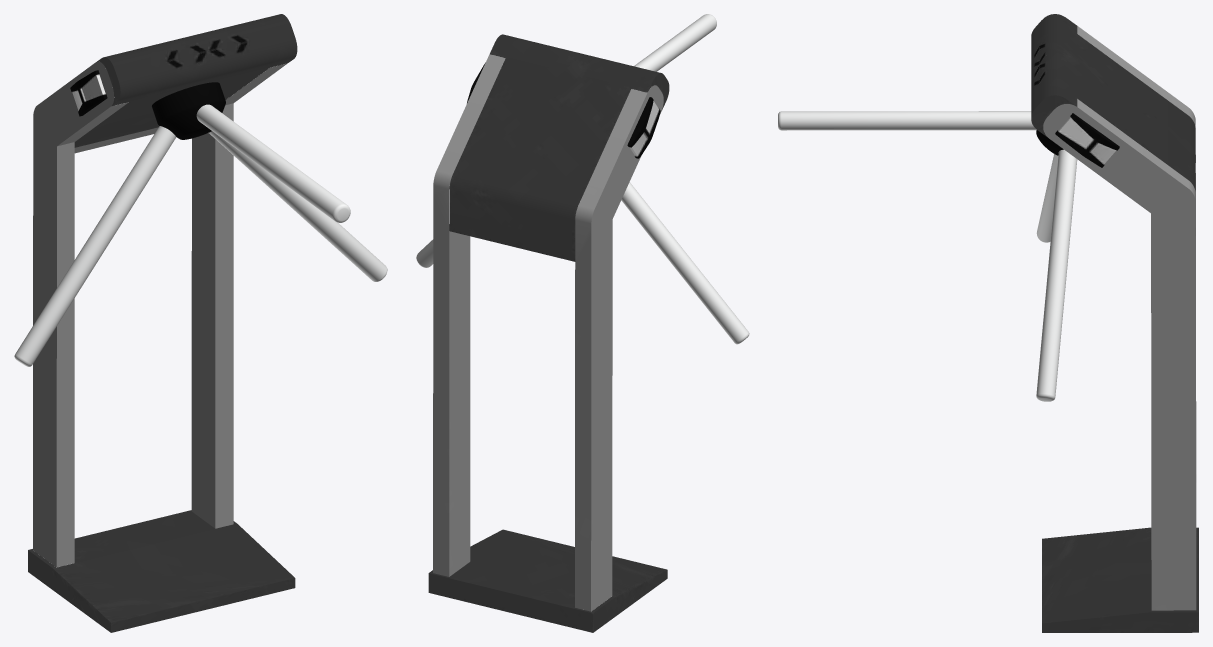
The model's file is simple_turnstile.glb.
3 views of the same model, side by side, from view 1: azimuth 30°, elevation 25°; view 2: azimuth 150°, elevation 25°; view 3: azimuth 270°, elevation 25° (orthographic). The views are drawn at different scales.
Parts seen in each view (by area): view 1: Cube.003_5, Cube.003_6, Cylinder.002_3, Cylinder.002_2; view 2: Cube.003_6, Cube.003_5, Cylinder.002_3; view 3: Cube.003_5, Cube.003_6, Cylinder.002_3.
Boxes of the visible parts, bbox=[...] form: Cube.003_5: bbox=[33, 61, 287, 567]; Cube.003_6: bbox=[28, 14, 297, 632]; Cylinder.002_3: bbox=[14, 104, 387, 366]; Cylinder.002_2: bbox=[152, 82, 225, 139]; Cube.003_6: bbox=[428, 34, 669, 632]; Cube.003_5: bbox=[433, 54, 663, 611]; Cylinder.002_3: bbox=[416, 14, 749, 344]; Cube.003_5: bbox=[1043, 26, 1196, 610]; Cube.003_6: bbox=[1031, 14, 1198, 632]; Cylinder.002_3: bbox=[778, 111, 1077, 401].
Size of the model in its own units: 14.68 by 21.58 by 15.36.
Materials: 4 (2 with a texture image).
